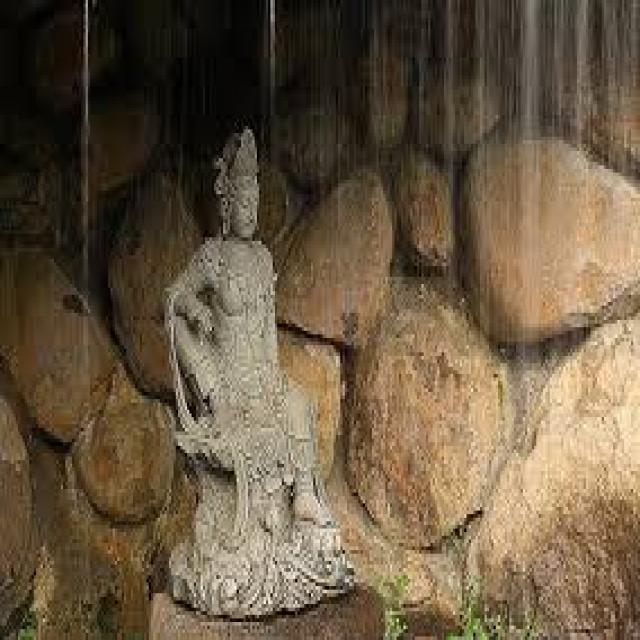Guan Yin: (204, 127, 258, 238)
